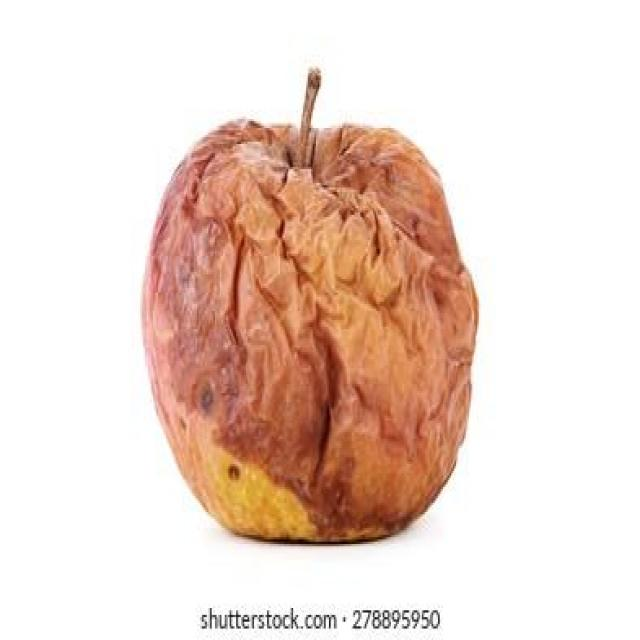Rotten: (142, 107, 482, 543)
